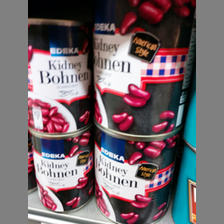beans: (92, 1, 191, 135), (87, 129, 177, 221), (28, 13, 89, 136), (30, 136, 94, 216)
